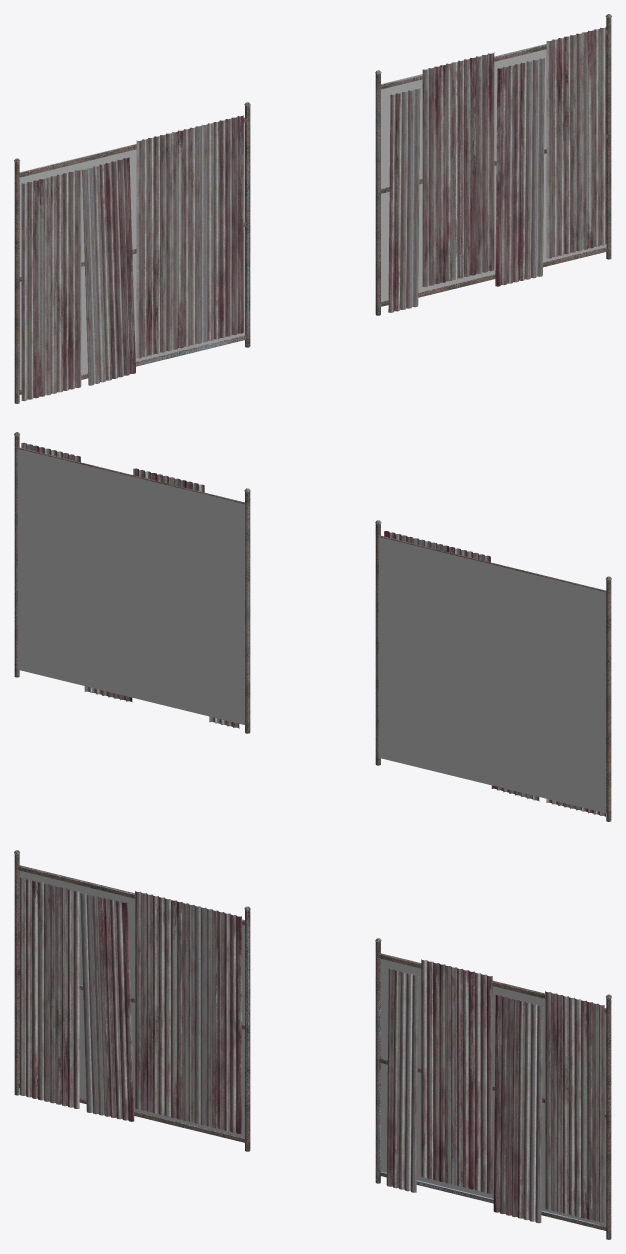
The model's file is Fence.fbx.
3 views of the same model, one above another, from view 1: azimuth 30°, elevation 25°; view 2: azimuth 150°, elevation 25°; view 3: azimuth 330°, elevation 25° (orthographic).
Visible parts, largest first — view 1: Group1, Group2; view 2: Group1, Group2; view 3: Group1, Group2.
Boxes of the visible parts, x1,y1,x2,y2 form: Group1: (375, 14, 611, 315); Group2: (14, 102, 250, 403); Group1: (14, 432, 250, 733); Group2: (375, 520, 611, 821); Group1: (375, 938, 611, 1239); Group2: (14, 850, 250, 1151).
Bounding box in the file's own units: 229 × 89.19 × 2.31.
